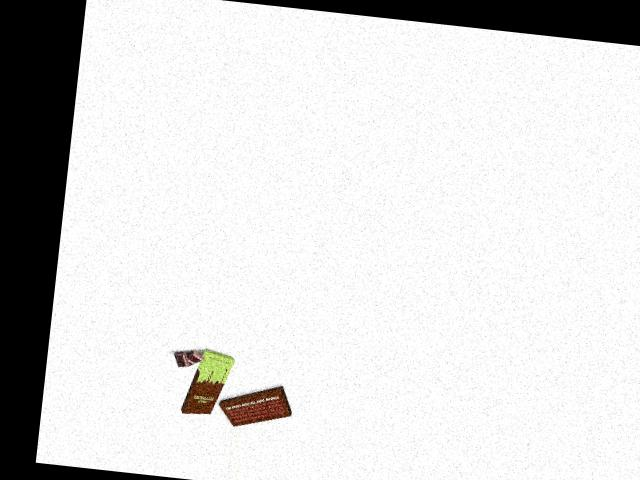chocolate: (185, 345, 232, 419)
